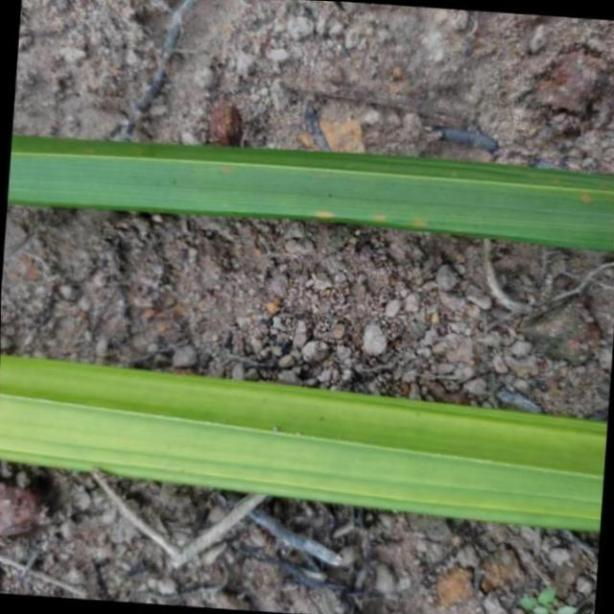nitrogen: (0, 352, 609, 540), (11, 130, 614, 258)
